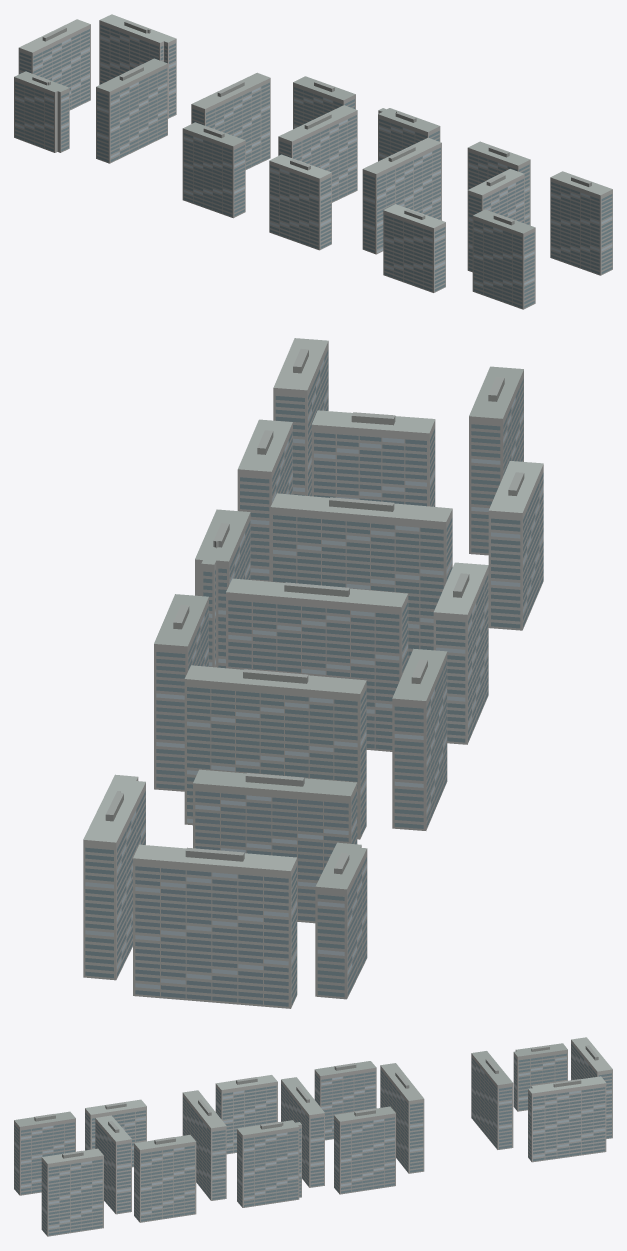
The model's file is apt-a13204103.glb.
3 views of the same model, one above another, from view 1: azimuth 30°, elevation 25°; view 2: azimuth 150°, elevation 25°; view 3: azimuth 270°, elevation 25° (orthographic). The views are drawn at different scales.
Parts seen in each view (by area): view 1: apt-a13204103; view 2: apt-a13204103; view 3: apt-a13204103.
Boxes of the visible parts, x1,y1,x2,y2 form: apt-a13204103: (14, 14, 612, 309); apt-a13204103: (83, 338, 543, 1008); apt-a13204103: (14, 1037, 612, 1236).
Bounding box in the file's own units: 227 × 58 × 415.
